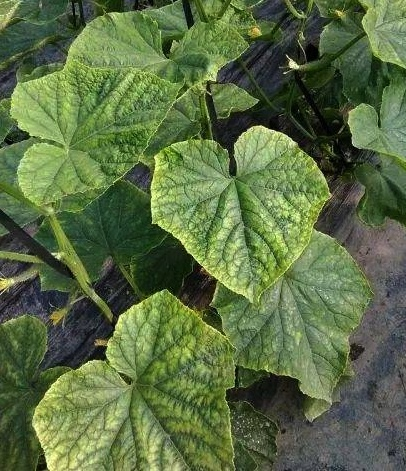cucumber_plant: (24, 48, 316, 289), (43, 291, 232, 471)
